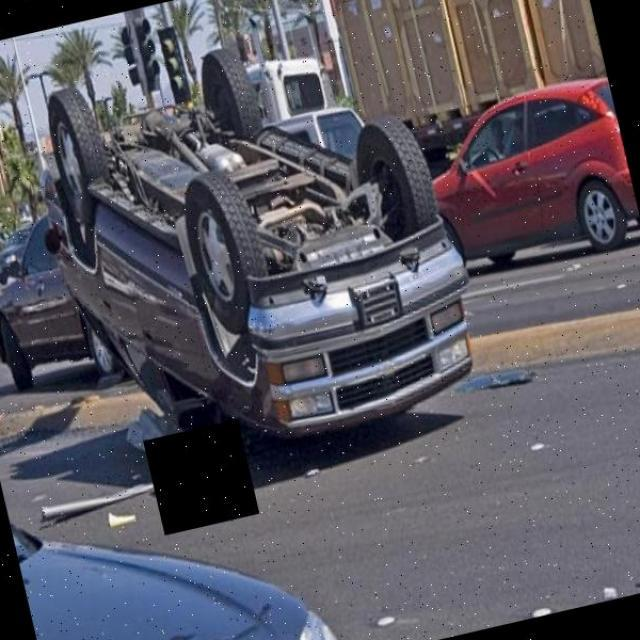accident: (7, 0, 501, 498)
